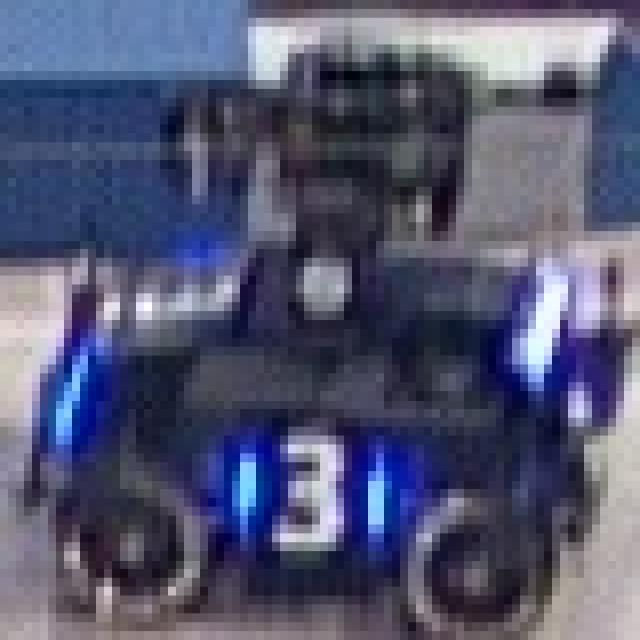B3: (232, 427, 392, 560)
